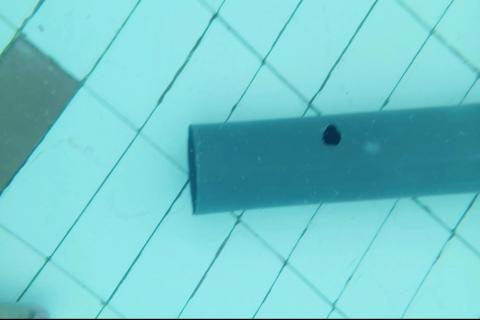kebocoran: (321, 122, 341, 147)
